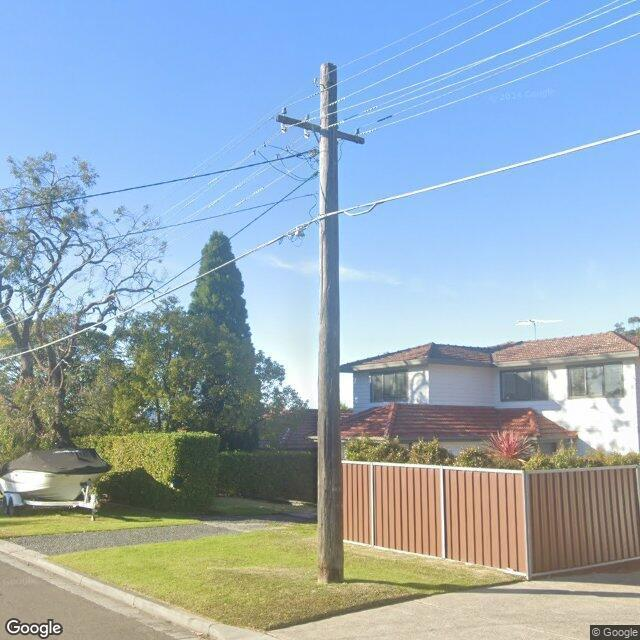crossarm: (276, 114, 366, 145)
timber-pole: (316, 62, 345, 581)
